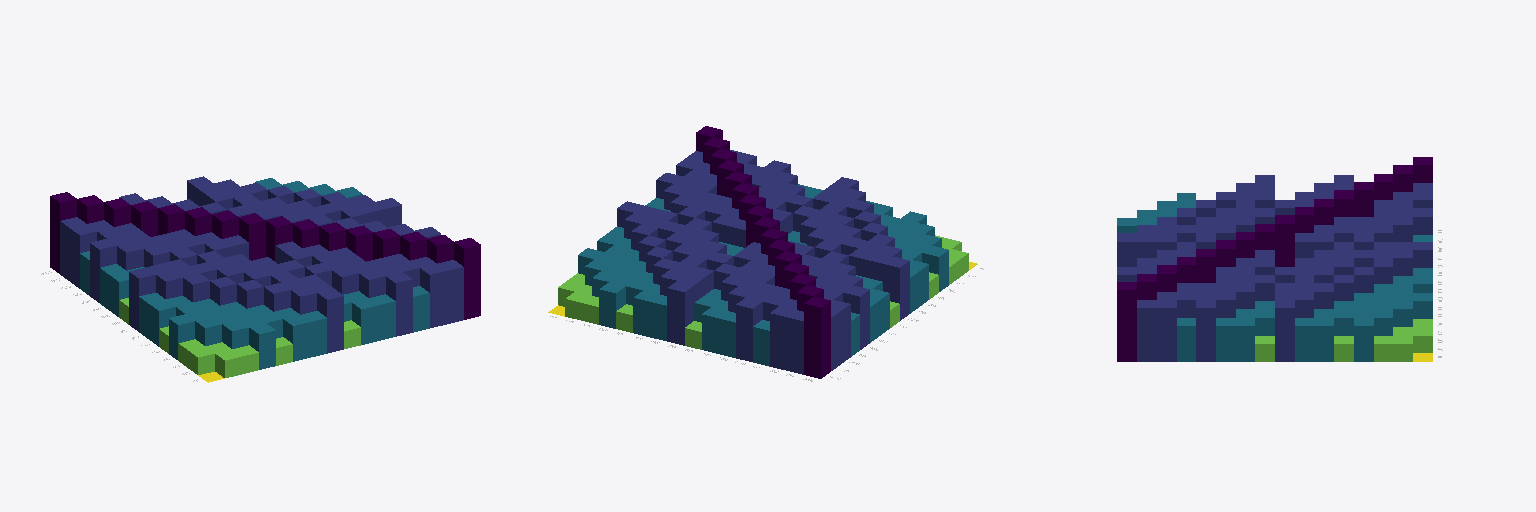
3 views of the same model, side by side, from view 1: azimuth 30°, elevation 25°; view 2: azimuth 150°, elevation 25°; view 3: azimuth 270°, elevation 25° (orthographic).
Parts seen in each view (by area): view 1: Object(16,16)[length_4], Object(8,16)[length_3], Object(12,16)[length_3], Object(14,16)[length_3], Object(1,1)[length_4], Object(15,16)[length_3], Object(1,5)[length_3], Object(1,9)[length_3], Object(8,8)[length_4], Object(10,16)[length_2], Object(4,16)[length_2], Object(6,16)[length_2] (+28 smaller); view 2: Object(1,1)[length_4], Object(9,1)[length_3], Object(5,1)[length_3], Object(1,9)[length_3], Object(3,1)[length_3], Object(2,1)[length_3], Object(13,1)[length_2], Object(1,5)[length_3], Object(11,1)[length_2], Object(7,1)[length_2], Object(1,13)[length_2], Object(6,1)[length_2] (+4 smaller); view 3: Object(16,16)[length_4], Object(16,8)[length_3], Object(16,12)[length_3], Object(16,14)[length_3], Object(16,15)[length_3], Object(8,8)[length_4], Object(16,4)[length_2], Object(16,6)[length_2], Object(16,11)[length_2], Object(16,7)[length_2], Object(16,10)[length_2], Object(16,13)[length_2] (+10 smaller).
Boxes of the visible parts, x1=… form: Object(16,16)[length_4]: x1=454, y1=238, x2=480, y2=319; Object(8,16)[length_3]: x1=317, y1=289, x2=343, y2=353; Object(12,16)[length_3]: x1=386, y1=272, x2=412, y2=336; Object(14,16)[length_3]: x1=420, y1=264, x2=446, y2=327; Object(1,1)[length_4]: x1=50, y1=192, x2=76, y2=273; Object(15,16)[length_3]: x1=438, y1=260, x2=463, y2=323; Object(1,5)[length_3]: x1=90, y1=239, x2=116, y2=302; Object(1,9)[length_3]: x1=129, y1=268, x2=155, y2=331; Object(8,8)[length_4]: x1=239, y1=213, x2=265, y2=260; Object(10,16)[length_2]: x1=352, y1=298, x2=378, y2=344; Object(4,16)[length_2]: x1=249, y1=323, x2=275, y2=369; Object(6,16)[length_2]: x1=283, y1=315, x2=309, y2=361; Object(1,1)[length_4]: x1=804, y1=297, x2=830, y2=378; Object(9,1)[length_3]: x1=667, y1=281, x2=693, y2=345; Object(5,1)[length_3]: x1=736, y1=298, x2=762, y2=361; Object(1,9)[length_3]: x1=883, y1=257, x2=909, y2=320; Object(3,1)[length_3]: x1=770, y1=306, x2=795, y2=370; Object(2,1)[length_3]: x1=787, y1=310, x2=803, y2=374; Object(13,1)[length_2]: x1=599, y1=282, x2=625, y2=328; Object(1,5)[length_3]: x1=843, y1=285, x2=869, y2=349; Object(11,1)[length_2]: x1=633, y1=291, x2=659, y2=336; Object(7,1)[length_2]: x1=702, y1=307, x2=727, y2=353; Object(1,13)[length_2]: x1=922, y1=246, x2=948, y2=291; Object(6,1)[length_2]: x1=719, y1=311, x2=735, y2=357; Object(16,16)[length_4]: x1=1117, y1=282, x2=1136, y2=361; Object(16,8)[length_3]: x1=1275, y1=300, x2=1294, y2=361; Object(16,12)[length_3]: x1=1196, y1=300, x2=1215, y2=361; Object(16,14)[length_3]: x1=1157, y1=300, x2=1176, y2=361; Object(16,15)[length_3]: x1=1137, y1=300, x2=1156, y2=361; Object(8,8)[length_4]: x1=1275, y1=215, x2=1294, y2=266; Object(16,4)[length_2]: x1=1354, y1=318, x2=1373, y2=361; Object(16,6)[length_2]: x1=1314, y1=318, x2=1333, y2=361; Object(16,11)[length_2]: x1=1216, y1=318, x2=1235, y2=361; Object(16,7)[length_2]: x1=1295, y1=318, x2=1313, y2=361; Object(16,10)[length_2]: x1=1236, y1=318, x2=1254, y2=361; Object(16,13)[length_2]: x1=1177, y1=318, x2=1195, y2=361.
Bounding box in the file's own units: 16.84 × 4 × 16.5.